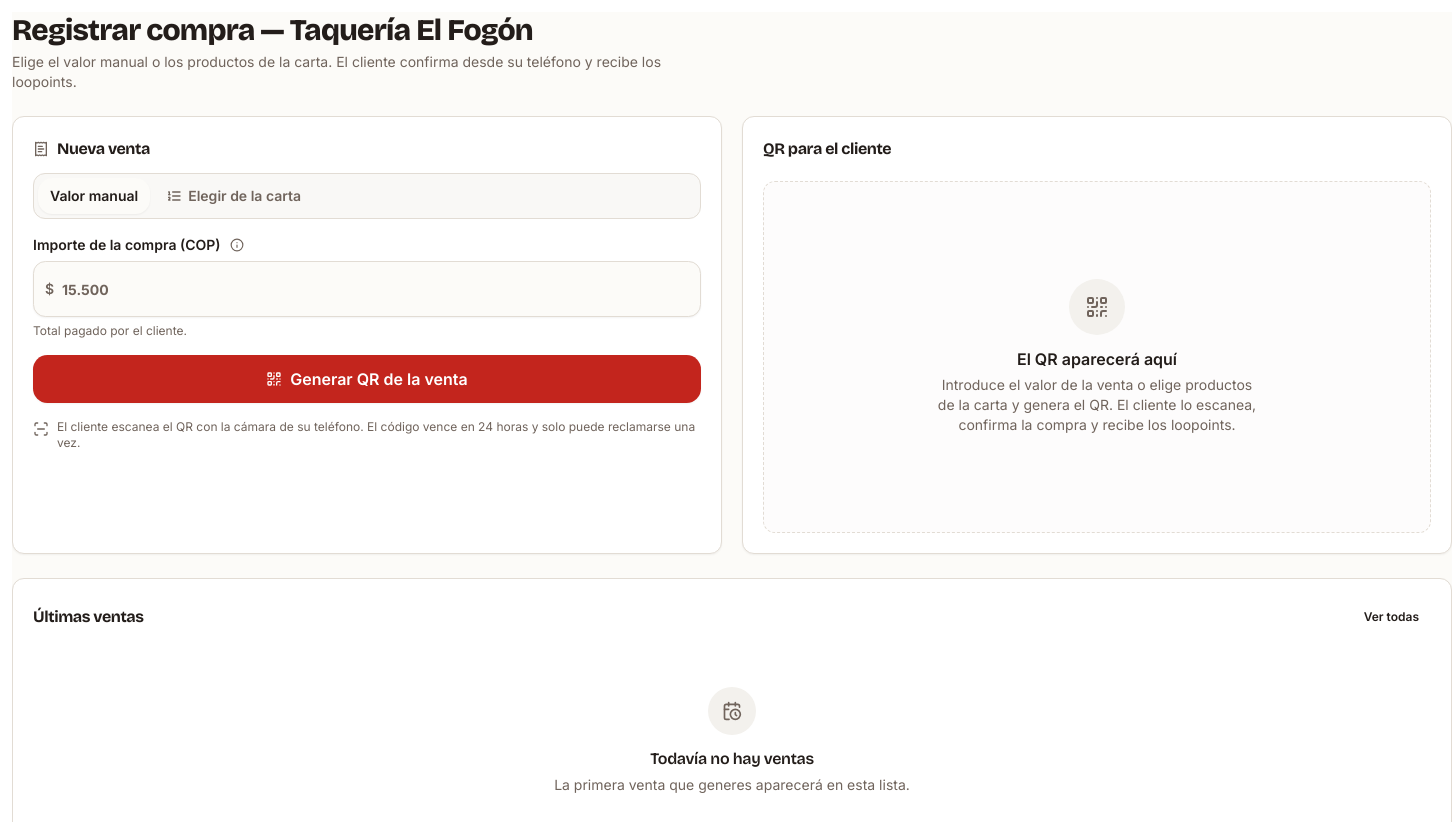
Test: PurchaseRegistrationPage (venta con QR) › no envía importes en cero
This screenshot has width=1452, height=822.
Click the button "Generar QR de la venta".
click(367, 379)  # box [33,355,701,403]
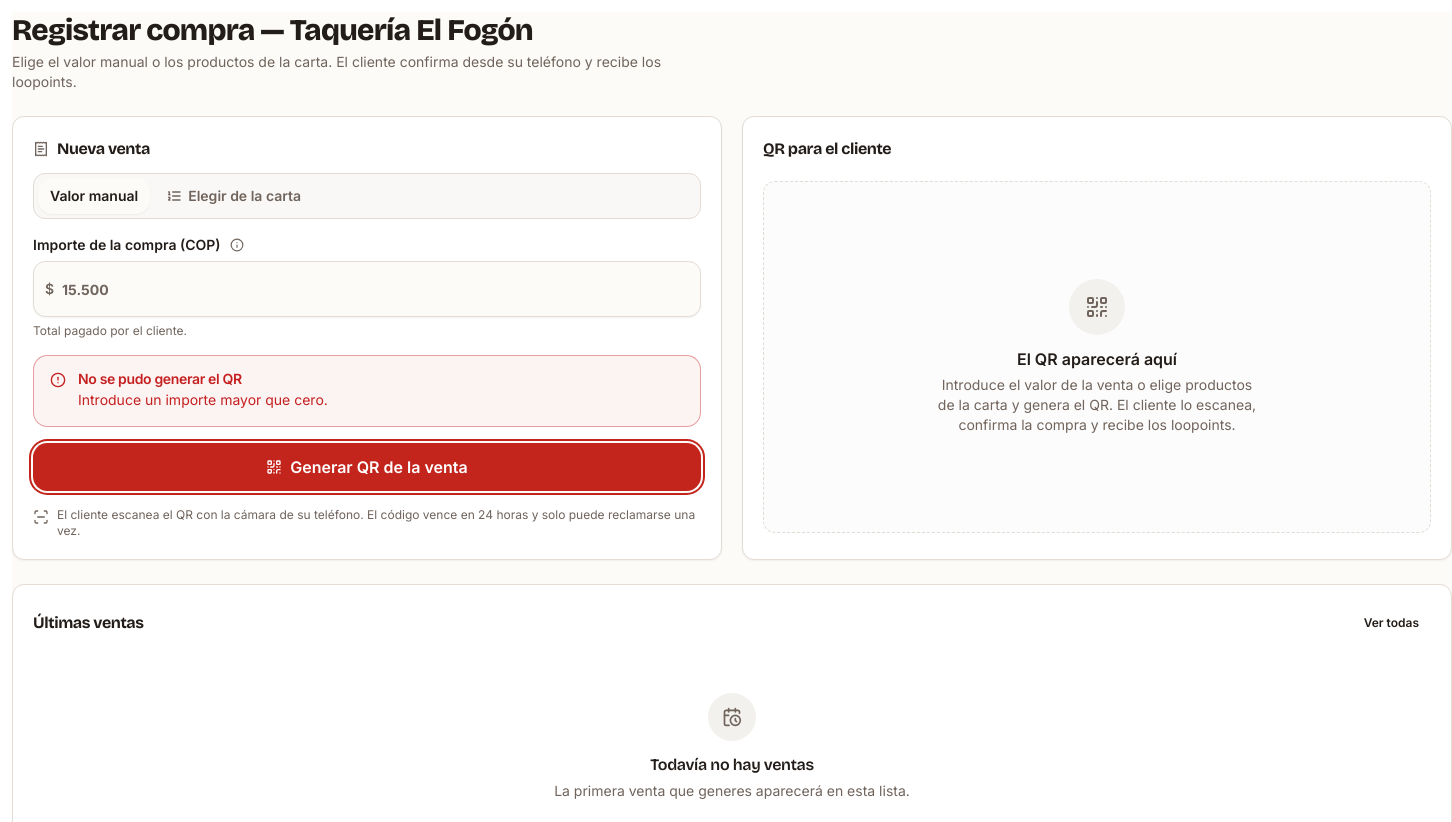
Check: the text "Introduce un importe mayor que cero." is shown, box [78,391,328,408]
